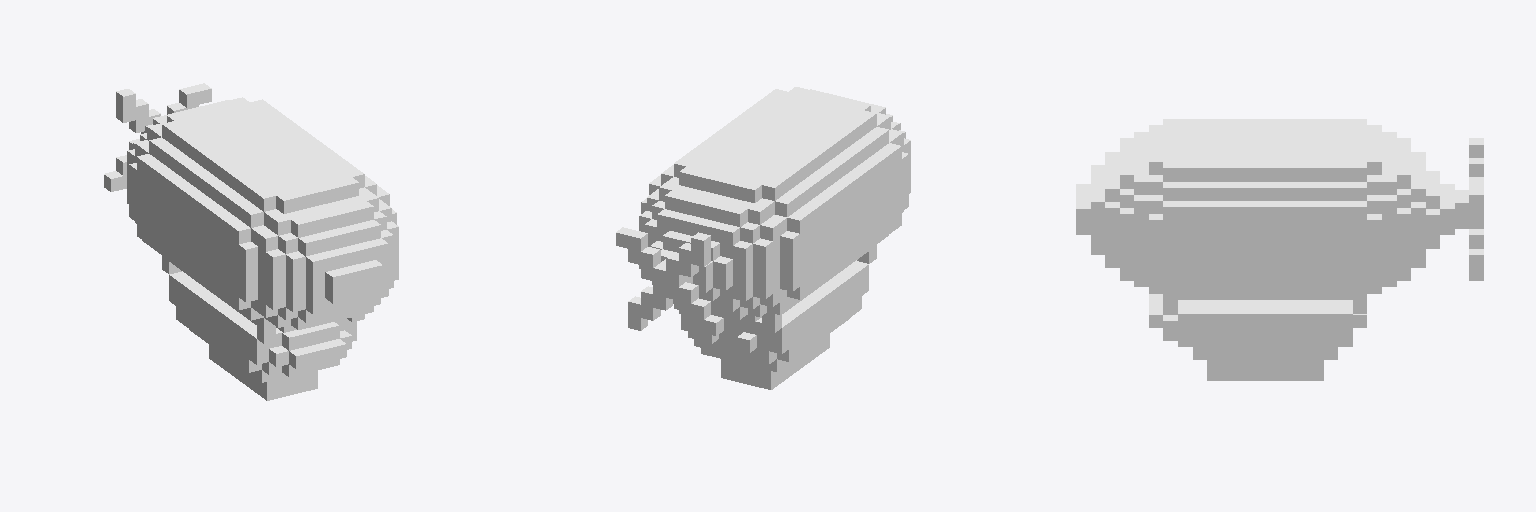
File: Merchant mit Propeller.obj
3 views of the same model, side by side, from view 1: azimuth 30°, elevation 25°; view 2: azimuth 150°, elevation 25°; view 3: azimuth 270°, elevation 25° (orthographic).
Parts seen in each view (by area): view 1: object 1; view 2: object 1; view 3: object 1.
Part boxes in pixels (bbox=[...]): object 1: bbox=[104, 83, 398, 400]; object 1: bbox=[616, 87, 910, 389]; object 1: bbox=[1076, 119, 1483, 380].
Bounding box in the file's own units: 1.2 × 1.7 × 2.8.